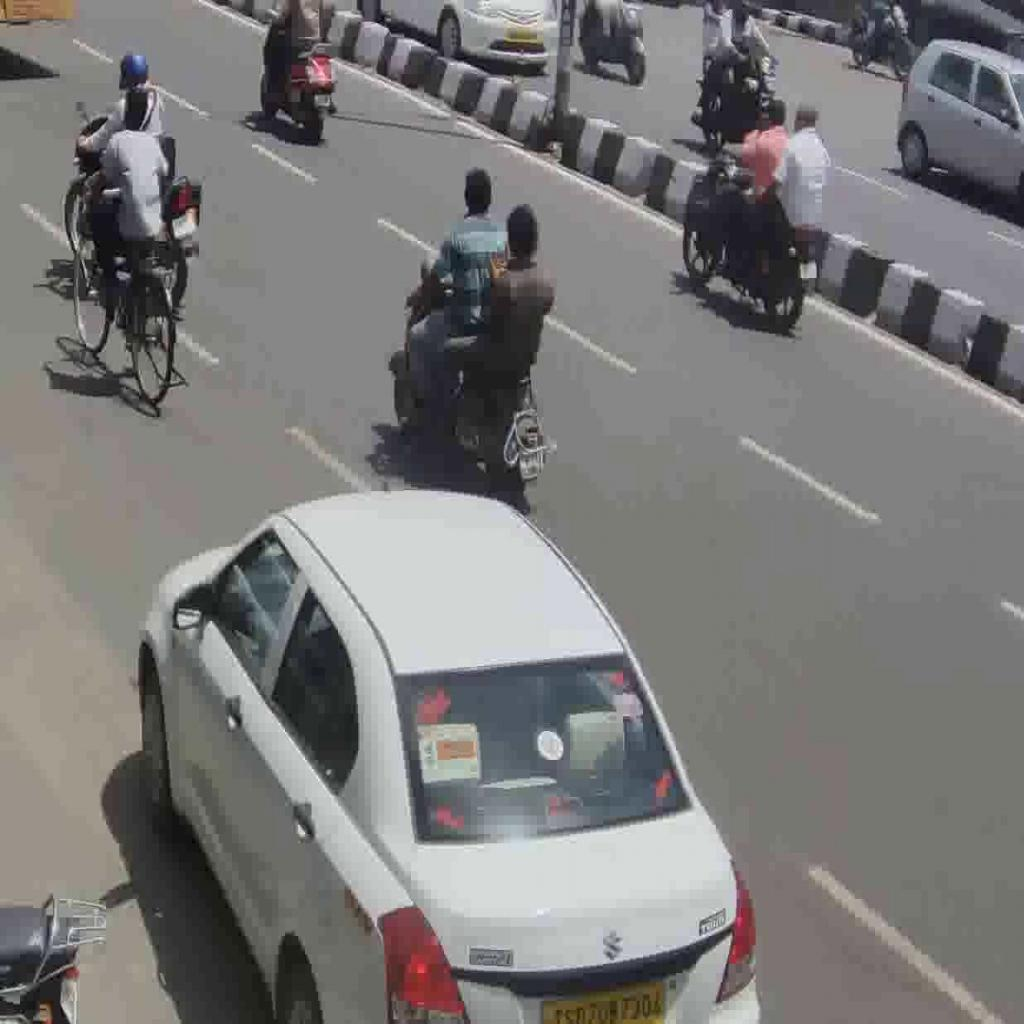helmet: (388, 258, 553, 490), (682, 145, 820, 335), (261, 10, 336, 142)
